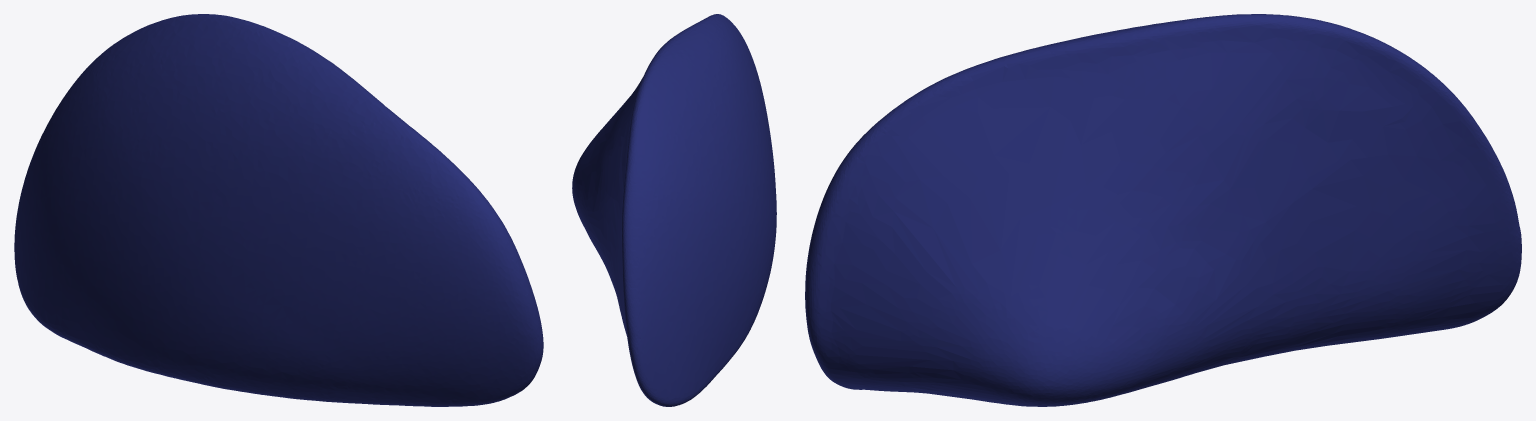
File: Left_globus_pallidus.obj
The picture shows the model from 3 angles, left to right: view 1: azimuth 30°, elevation 25°; view 2: azimuth 150°, elevation 25°; view 3: azimuth 270°, elevation 25°; orthographic projection. The views are drawn at different scales.
Visible parts, largest first — view 1: obj0; view 2: obj0; view 3: obj0.
Boxes of the visible parts, bbox=[...] form: obj0: bbox=[14, 14, 543, 406]; obj0: bbox=[572, 14, 776, 406]; obj0: bbox=[805, 14, 1521, 406].
Bounding box in the file's own units: 11.47 × 11.87 × 20.07.
Materials: 1 (1 with a texture image).
